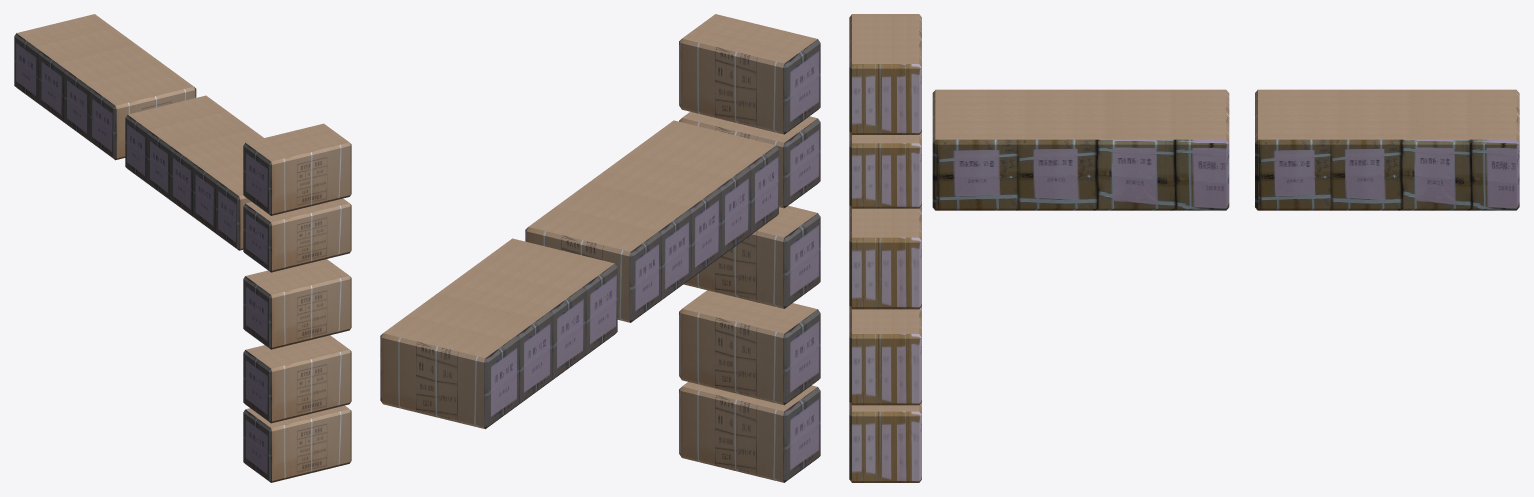
Rendered from yuexie.FBX.
3 renders of one model, left to right at view 1: azimuth 30°, elevation 25°; view 2: azimuth 150°, elevation 25°; view 3: azimuth 270°, elevation 25°, orthographic. The views are drawn at different scales.
Visible parts, largest first — view 1: 对象30, 对象29, 对象98, 对象100, 对象101, 对象102, 对象99; view 2: 对象30, 对象29, 对象98, 对象101, 对象102, 对象100, 对象99; view 3: 对象29, 对象30, 对象98, 对象100, 对象101, 对象102, 对象99.
Boxes of the visible parts, x1,y1,x2,y2 form: 对象30: (14, 14, 196, 160); 对象29: (125, 95, 263, 250); 对象98: (243, 123, 351, 215); 对象100: (243, 259, 351, 349); 对象101: (243, 335, 351, 423); 对象102: (243, 405, 351, 482); 对象99: (243, 198, 351, 272); 对象30: (380, 238, 617, 429); 对象29: (525, 120, 778, 322); 对象98: (679, 14, 820, 134); 对象101: (679, 290, 820, 405); 对象102: (679, 382, 820, 482); 对象100: (683, 205, 820, 308); 对象99: (679, 112, 820, 208); 对象29: (932, 89, 1229, 210); 对象30: (1255, 89, 1519, 210); 对象98: (849, 14, 921, 134); 对象100: (849, 205, 921, 309); 对象101: (849, 306, 921, 405); 对象102: (849, 402, 921, 482); 对象99: (849, 132, 921, 208).
Size of the model in its own units: 0.7354 by 3.95 by 2.73.
